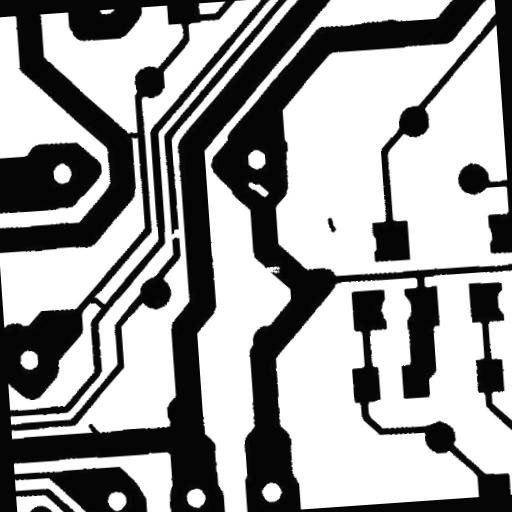copper: (319, 209, 344, 240)
mousebite: (258, 258, 288, 282)
open: (162, 220, 188, 248)
pin-hole: (240, 172, 277, 206)
short: (80, 288, 114, 318), (118, 124, 147, 147)
spur: (80, 415, 106, 445)
